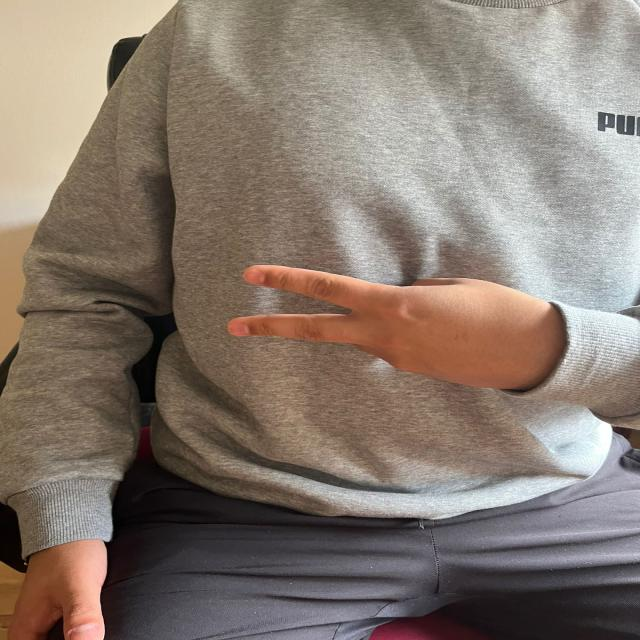H: (216, 257, 563, 392)
